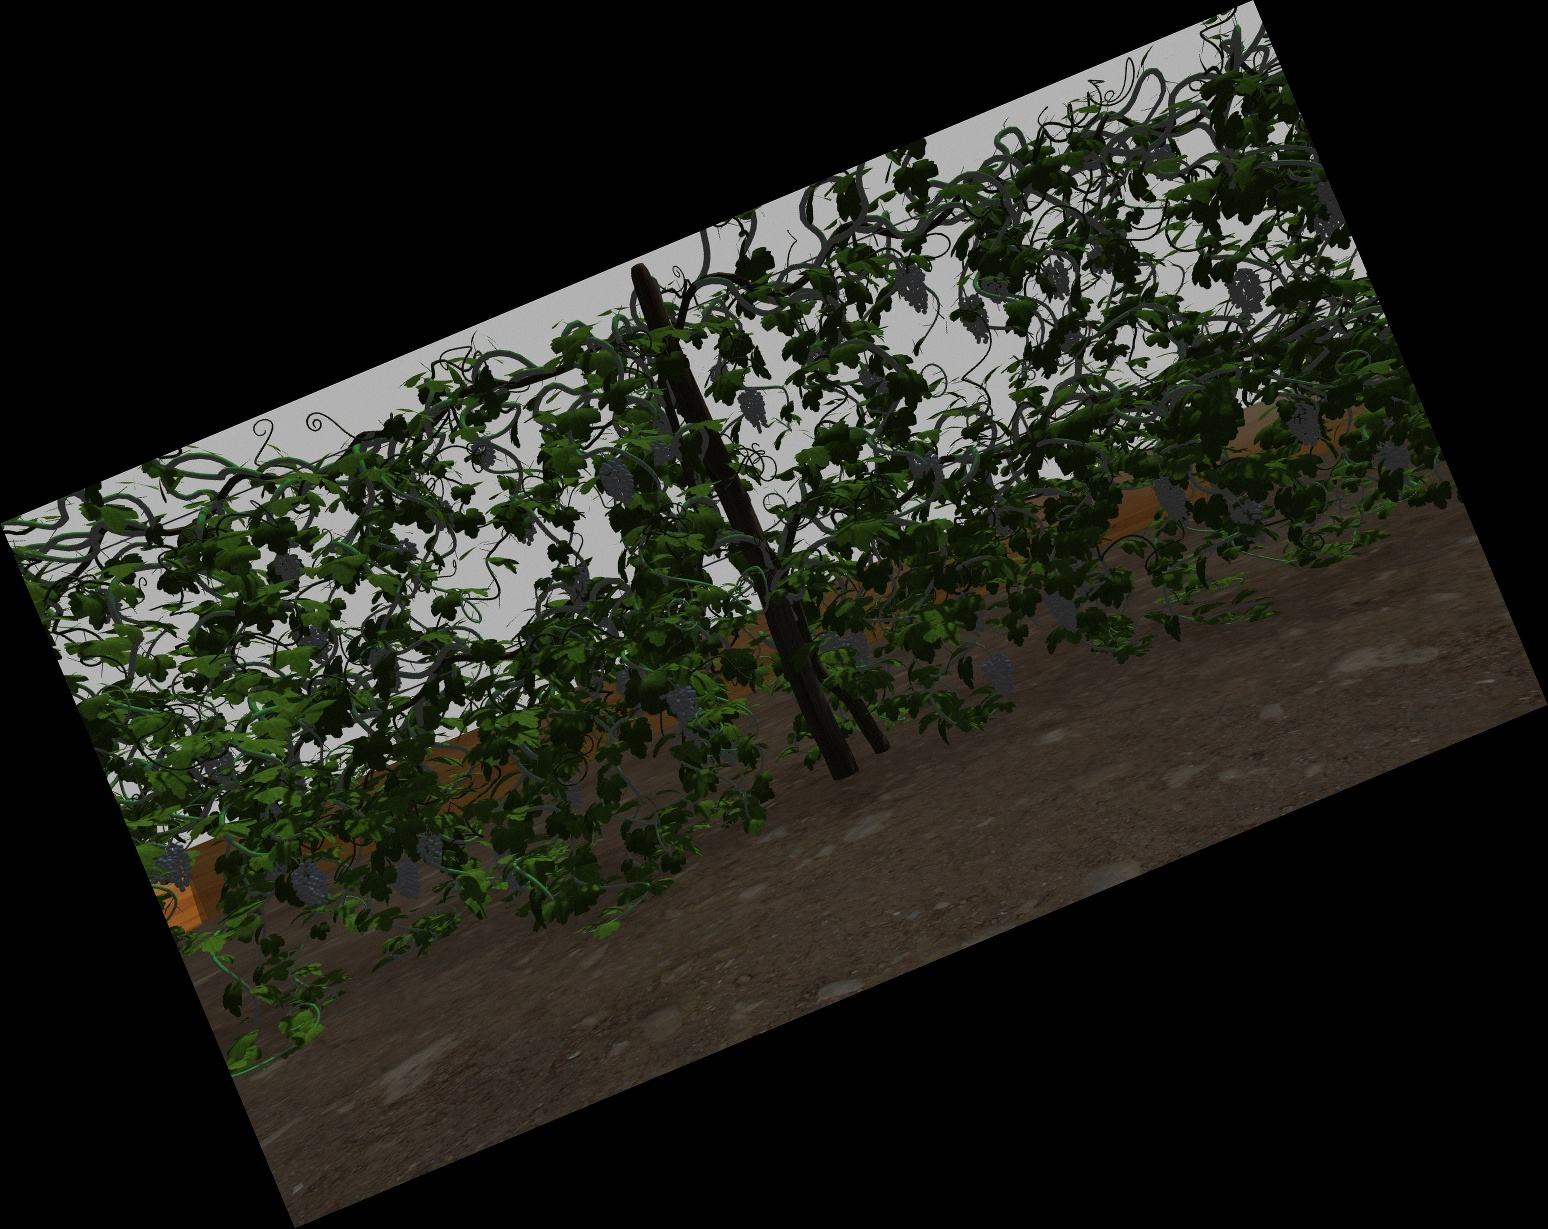grape: (673, 685, 702, 745), (1229, 271, 1267, 315), (293, 861, 329, 906), (900, 264, 930, 315), (1157, 474, 1187, 525), (1288, 400, 1321, 446), (961, 295, 991, 346), (913, 449, 944, 499), (603, 457, 633, 506), (160, 846, 193, 888), (1309, 188, 1337, 238), (1236, 501, 1267, 545), (1050, 589, 1078, 635), (986, 653, 1014, 699), (391, 862, 422, 901), (1375, 439, 1411, 471), (743, 388, 768, 434), (202, 750, 235, 782), (1044, 261, 1071, 299), (418, 832, 445, 867), (555, 778, 580, 811), (274, 550, 300, 581), (983, 275, 1009, 304), (848, 630, 869, 664), (648, 439, 671, 466), (820, 630, 846, 653), (472, 442, 495, 467)
